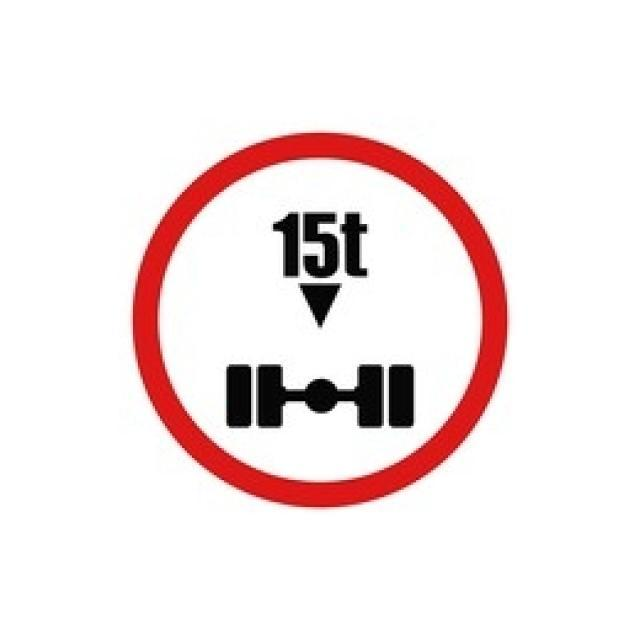axle load limit: (129, 131, 514, 505)
